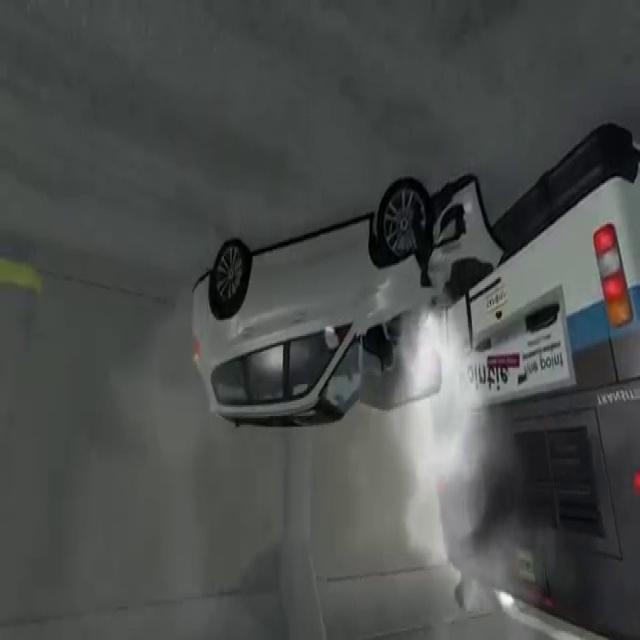severe: (180, 114, 640, 640)
